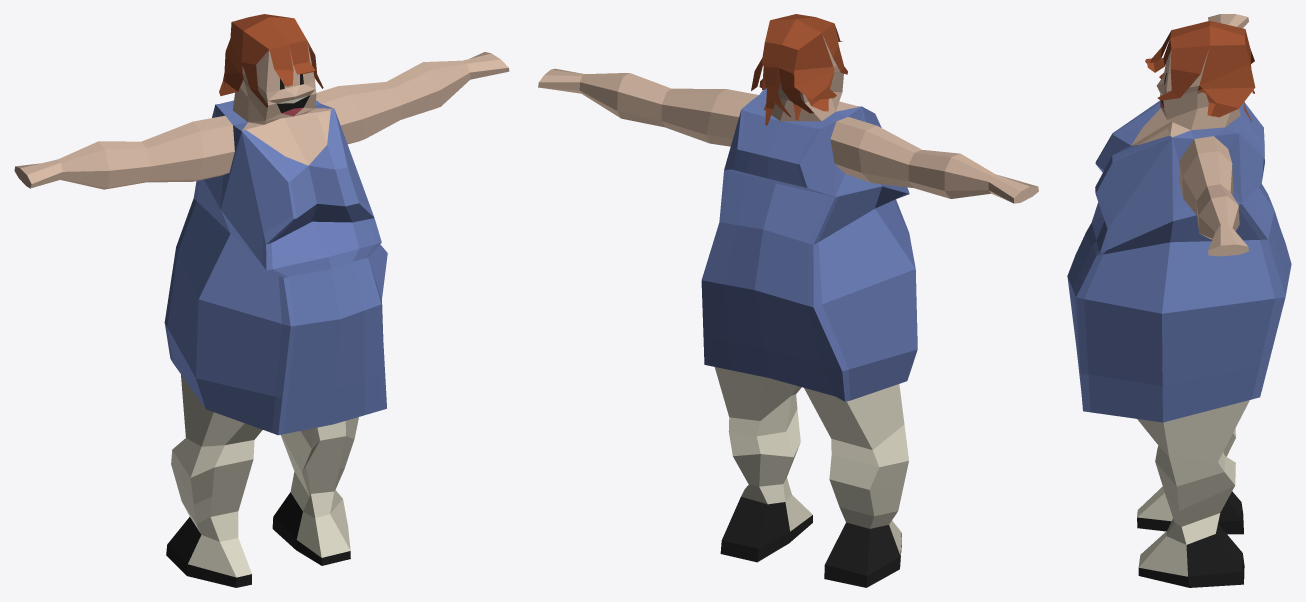
File: Maman3.fbx
3 views of the same model, side by side, from view 1: azimuth 30°, elevation 25°; view 2: azimuth 150°, elevation 25°; view 3: azimuth 270°, elevation 25° (orthographic).
Visible parts, largest first — view 1: Cube.001; view 2: Cube.001; view 3: Cube.001.
Boxes of the visible parts, x1,y1,x2,y2 form: Cube.001: (14,14,509,587); Cube.001: (538,14,1038,587); Cube.001: (1067,14,1291,587).
Size of the model in its own units: 540 by 571 by 218.
